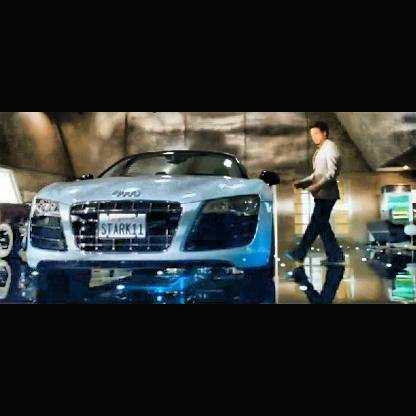Audi R8 Coupe 2012: (26, 149, 279, 300)
